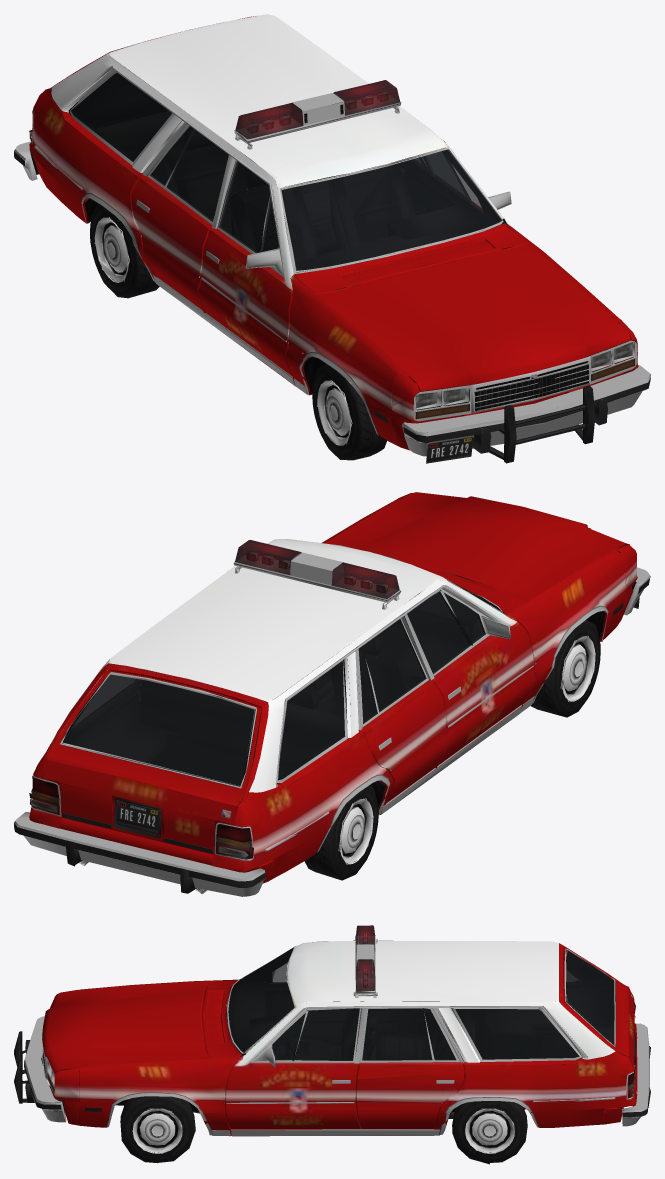
The model's file is firesw_lod1.glb.
3 renders of one model, top to bottom at view 1: azimuth 30°, elevation 25°; view 2: azimuth 150°, elevation 25°; view 3: azimuth 270°, elevation 25°, orthographic. The views are drawn at different scales.
Visible parts, largest first — view 1: Fairheaven_SW80_body002_Fairheaven_LT80_Bodymat_0, Fairheaven_LT80_Hood005_Fairheaven_LT80_Bodymat_0, Fairheaven_LT80_Interior_Trim007_UCB_Interior_Trim_0, Fairheaven_LT80_Windshield007_UCB_Lights_and_Glass_Transpere, Fairheaven_SW80_Grand_Trim001_UCB_BOTTOM_GT_0, Fairheaven_SW80_Glass_Body002_UCB_Lights_and_Glass_Transpere, Fairheaven_LT80_Bumper_Front005_UCB_BOTTOM_GT_0, Fairheaven_LT80_Front_Plate_Inner005_UCB_BOTTOM_GT_0, Fairheaven_SW80_Interior002_UCB_Interior_Trim_0, wheel_FR, wheel_RL, Fairheaven_LT80_LightbarEMS_UCB_BOTTOM_GT_0 (+10 smaller); view 2: Fairheaven_SW80_body002_Fairheaven_LT80_Bodymat_0, Fairheaven_LT80_Hood005_Fairheaven_LT80_Bodymat_0, Fairheaven_SW80_Interior002_UCB_Interior_Trim_0, Fairheaven_SW80_Glass_Rear002_UCB_Lights_and_Glass_Transpere, Fairheaven_LT80_Trunkdoor002_Fairheaven_LT80_Bodymat_0, Fairheaven_SW80_Glass_Body002_UCB_Lights_and_Glass_Transpere, Fairheaven_LT80_Interior_Trim007_UCB_Interior_Trim_0, Fairheaven_SW80_Grand_Trim001_UCB_BOTTOM_GT_0, Fairheaven_LT80_bumper_rear005_UCB_BOTTOM_GT_0, wheel_FR, wheel_RL, Fairheaven_LT80_LightbarEMS_UCB_BOTTOM_GT_0 (+8 smaller); view 3: Fairheaven_SW80_body002_Fairheaven_LT80_Bodymat_0, Fairheaven_LT80_Hood005_Fairheaven_LT80_Bodymat_0, Fairheaven_SW80_Interior002_UCB_Interior_Trim_0, Fairheaven_SW80_Glass_Body002_UCB_Lights_and_Glass_Transpere, Fairheaven_SW80_Grand_Trim001_UCB_BOTTOM_GT_0, Fairheaven_LT80_Interior_Trim007_UCB_Interior_Trim_0, wheel_FL, Fairheaven_LT80_Windshield007_UCB_Lights_and_Glass_Transpere, wheel_RR, Fairheaven_LT80_Glass_Driver008_UCB_Lights_and_Glass_Transpe, Fairheaven_SW80_Glass_Rear002_UCB_Lights_and_Glass_Transpere, Fairheaven_LT80_Bumper_Front005_UCB_BOTTOM_GT_0 (+7 smaller).
Part boxes in pixels (x1,y1,x2,y2): Fairheaven_SW80_body002_Fairheaven_LT80_Bodymat_0: (29,14,626,447); Fairheaven_LT80_Hood005_Fairheaven_LT80_Bodymat_0: (316,243,630,391); Fairheaven_LT80_Interior_Trim007_UCB_Interior_Trim_0: (149,127,512,290); Fairheaven_LT80_Windshield007_UCB_Lights_and_Glass_Transpere: (283,149,502,270); Fairheaven_SW80_Grand_Trim001_UCB_BOTTOM_GT_0: (31,66,511,435); Fairheaven_SW80_Glass_Body002_UCB_Lights_and_Glass_Transpere: (71,73,424,220); Fairheaven_LT80_Bumper_Front005_UCB_BOTTOM_GT_0: (402,365,650,456); Fairheaven_LT80_Front_Plate_Inner005_UCB_BOTTOM_GT_0: (409,323,636,421); Fairheaven_SW80_Interior002_UCB_Interior_Trim_0: (65,108,510,361); wheel_FR: (312,364,386,460); wheel_RL: (90,203,159,298); Fairheaven_LT80_LightbarEMS_UCB_BOTTOM_GT_0: (234,91,401,149); Fairheaven_SW80_body002_Fairheaven_LT80_Bodymat_0: (29,498,625,883); Fairheaven_LT80_Hood005_Fairheaven_LT80_Bodymat_0: (326,492,626,601); Fairheaven_SW80_Interior002_UCB_Interior_Trim_0: (48,592,501,848); Fairheaven_SW80_Glass_Rear002_UCB_Lights_and_Glass_Transpere: (62,674,254,785); Fairheaven_LT80_Trunkdoor002_Fairheaven_LT80_Bodymat_0: (42,670,261,854); Fairheaven_SW80_Glass_Body002_UCB_Lights_and_Glass_Transpere: (73,620,424,780); Fairheaven_LT80_Interior_Trim007_UCB_Interior_Trim_0: (150,590,483,781); Fairheaven_SW80_Grand_Trim001_UCB_BOTTOM_GT_0: (31,539,608,860); Fairheaven_LT80_bumper_rear005_UCB_BOTTOM_GT_0: (14,812,265,896); wheel_FR: (531,620,600,717); wheel_RL: (304,785,378,880); Fairheaven_LT80_LightbarEMS_UCB_BOTTOM_GT_0: (233,551,401,609); Fairheaven_SW80_body002_Fairheaven_LT80_Bodymat_0: (78,940,637,1136); Fairheaven_LT80_Hood005_Fairheaven_LT80_Bodymat_0: (42,981,209,1073); Fairheaven_SW80_Interior002_UCB_Interior_Trim_0: (225,947,616,1115); Fairheaven_SW80_Glass_Body002_UCB_Lights_and_Glass_Transpere: (362,971,579,1059); Fairheaven_SW80_Grand_Trim001_UCB_BOTTOM_GT_0: (106,946,635,1135); Fairheaven_LT80_Interior_Trim007_UCB_Interior_Trim_0: (225,983,475,1103); wheel_FL: (120,1096,195,1163); Fairheaven_LT80_Windshield007_UCB_Lights_and_Glass_Transpere: (228,948,294,1052); wheel_RR: (452,1101,527,1164); Fairheaven_LT80_Glass_Driver008_UCB_Lights_and_Glass_Transpe: (272,1009,359,1060); Fairheaven_SW80_Glass_Rear002_UCB_Lights_and_Glass_Transpere: (566,950,614,1044); Fairheaven_LT80_Bumper_Front005_UCB_BOTTOM_GT_0: (24,1016,66,1122).
Bounding box in the file's own units: 1.83 × 1.5 × 5.11.
8 materials, 8 textured.
